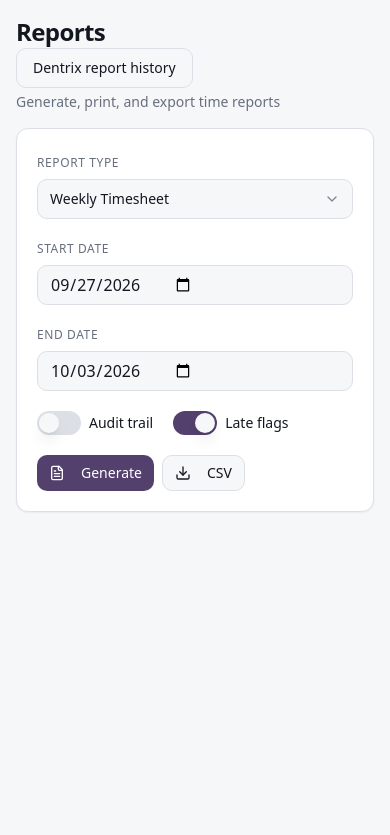
Test: payroll report missing-time flags › links a day with an unpaired punch the same way
The image size is (390, 835).
Step 1. Click the button "Generate" → [96, 473], box [37,455,154,491]
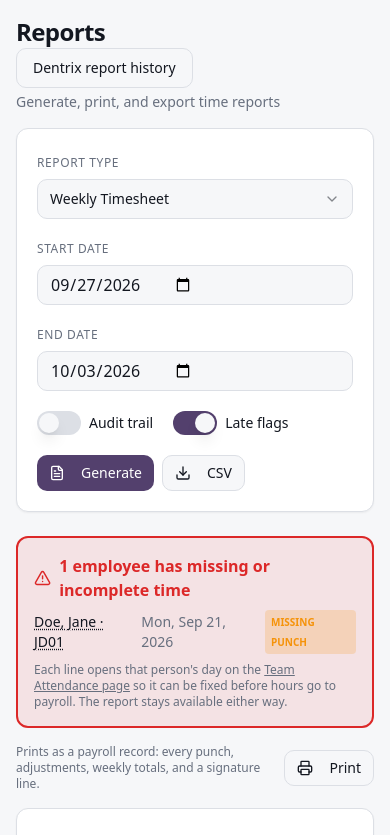
Now the link "Doe, Jane · JD01 Mon, Sep 21, 2026 MISSING PUNCH" is shown, box [30,610,360,654]
